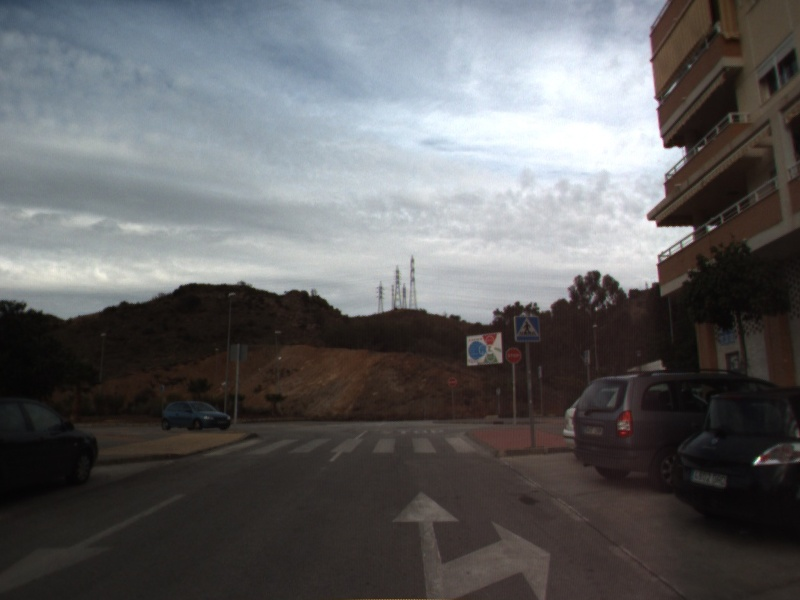STRAIGHT_RIGHT: (389, 487, 552, 599)
